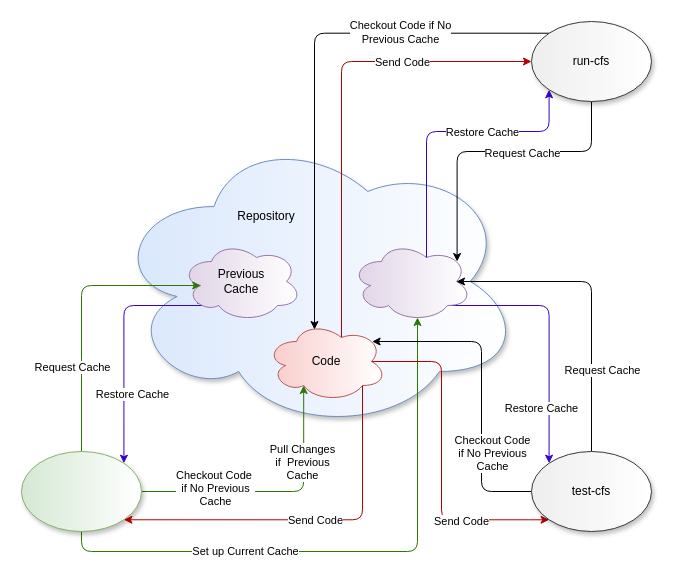
This 675x577 diagram has some shape labels left out. Here are the shapes that lost their labels. From the top down, the centre of each, then its label:
At pixel 411 281: "Cache".
At pixel 82 492: "build-cfs".
